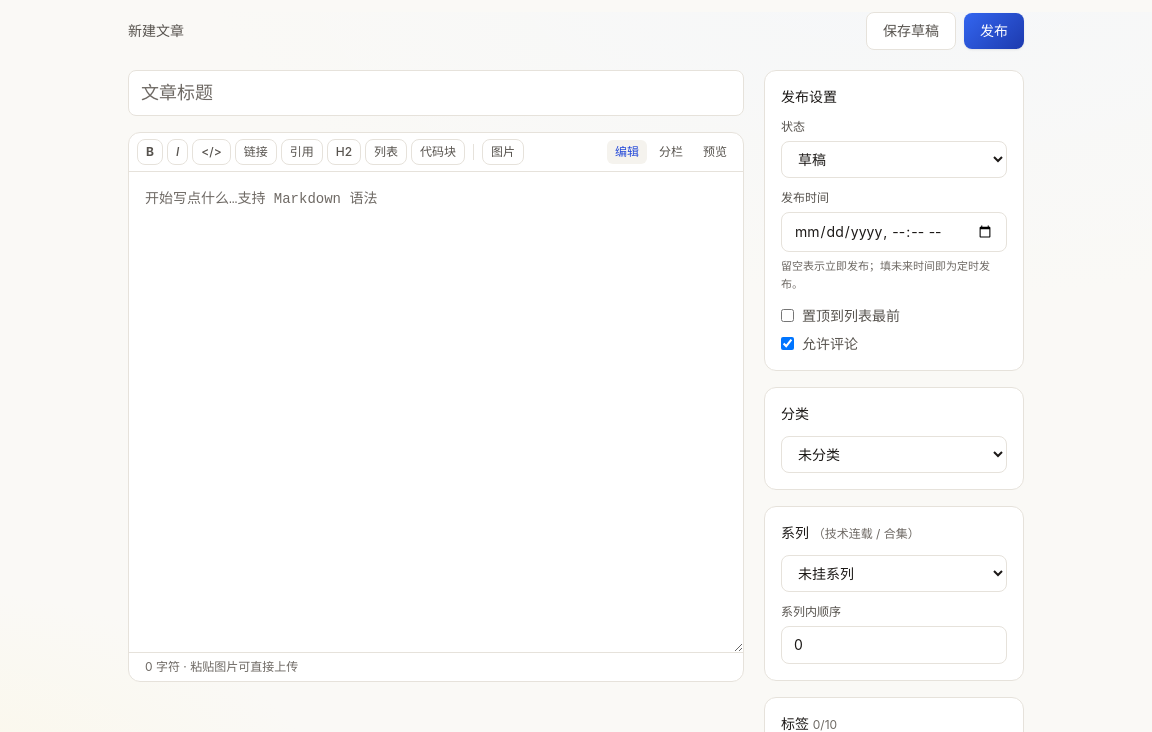
Test: ArticleEditView · 保存 › 新建页「保存草稿」走 create，成功后把地址换成编辑态且不重新拉取详情
The width and height of the screenshot is (1152, 732).
Type "  新文章  " into the field named "文章标题". click: coordinates (436, 93)
box: [128, 70, 744, 116]
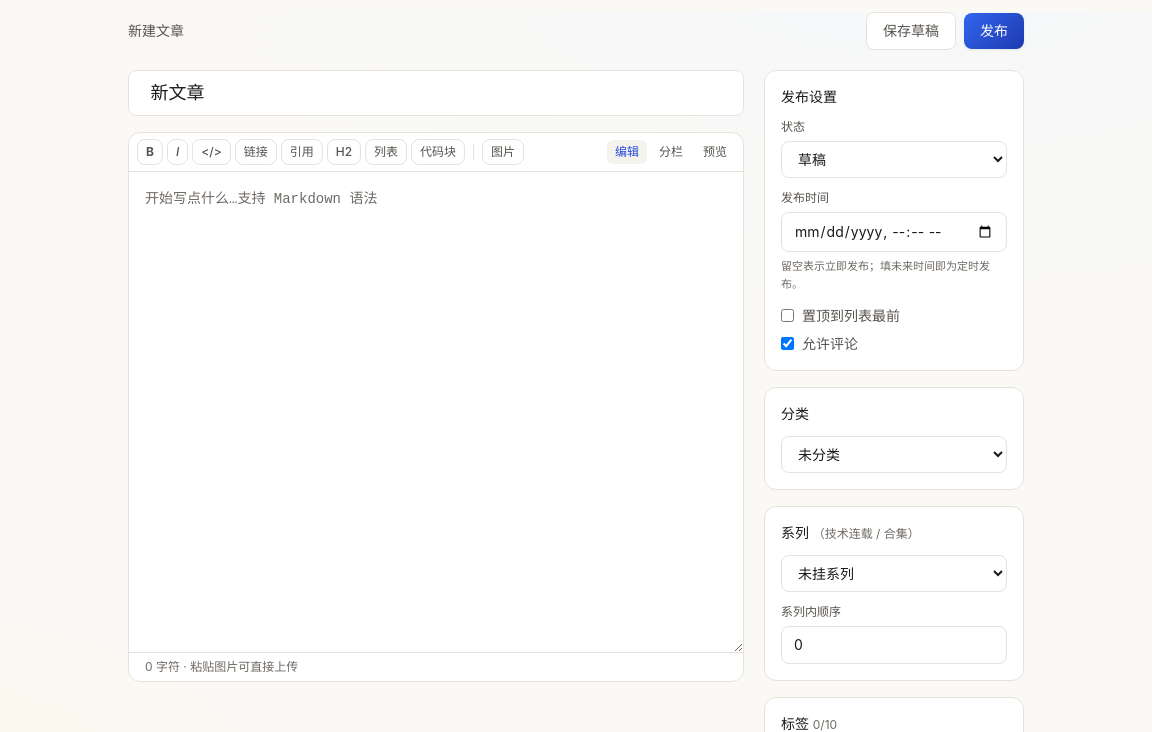
Click the button "保存草稿". click: coordinates (911, 31)
box: [866, 12, 956, 50]
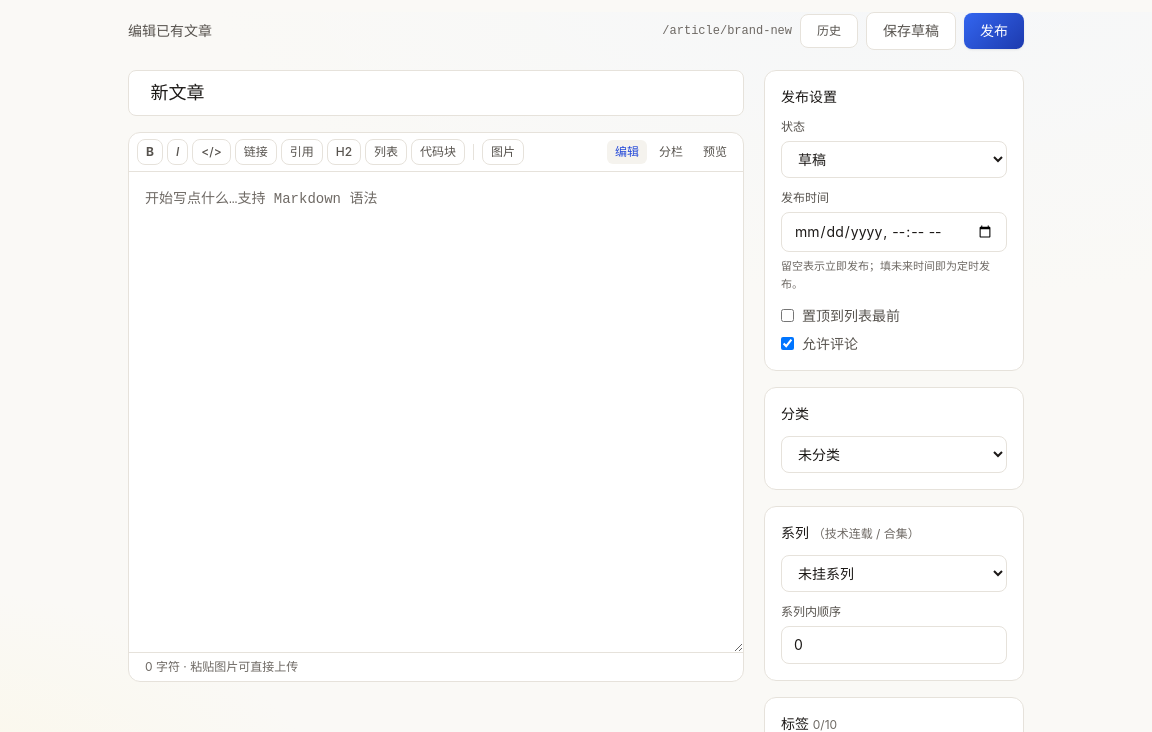
Expected: the text "/article/brand-new" is shown, [662, 23, 792, 39]
